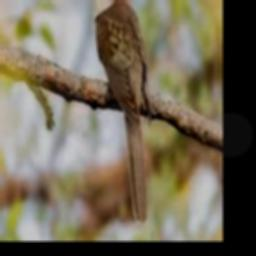Cuckoo: (83, 0, 149, 224)
